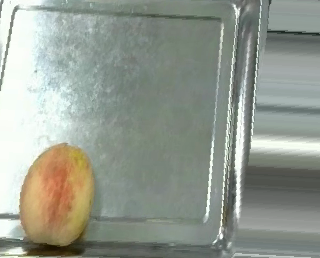Peach: (19, 142, 94, 247)
